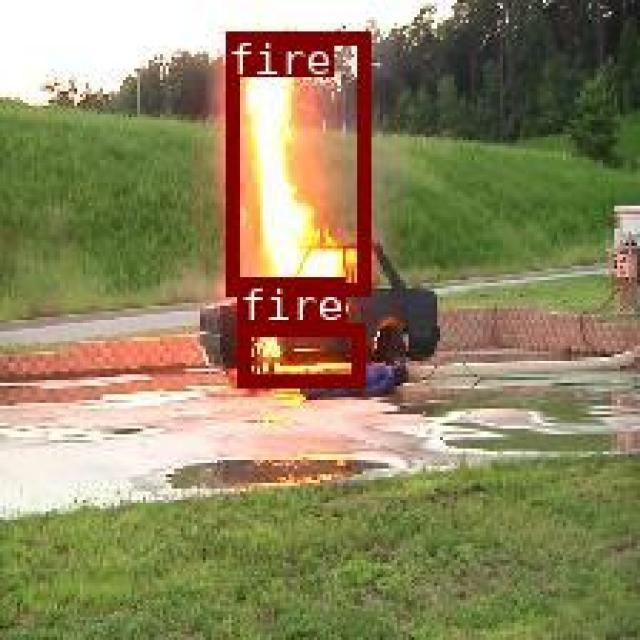fire: (225, 29, 366, 294), (235, 322, 361, 384)
